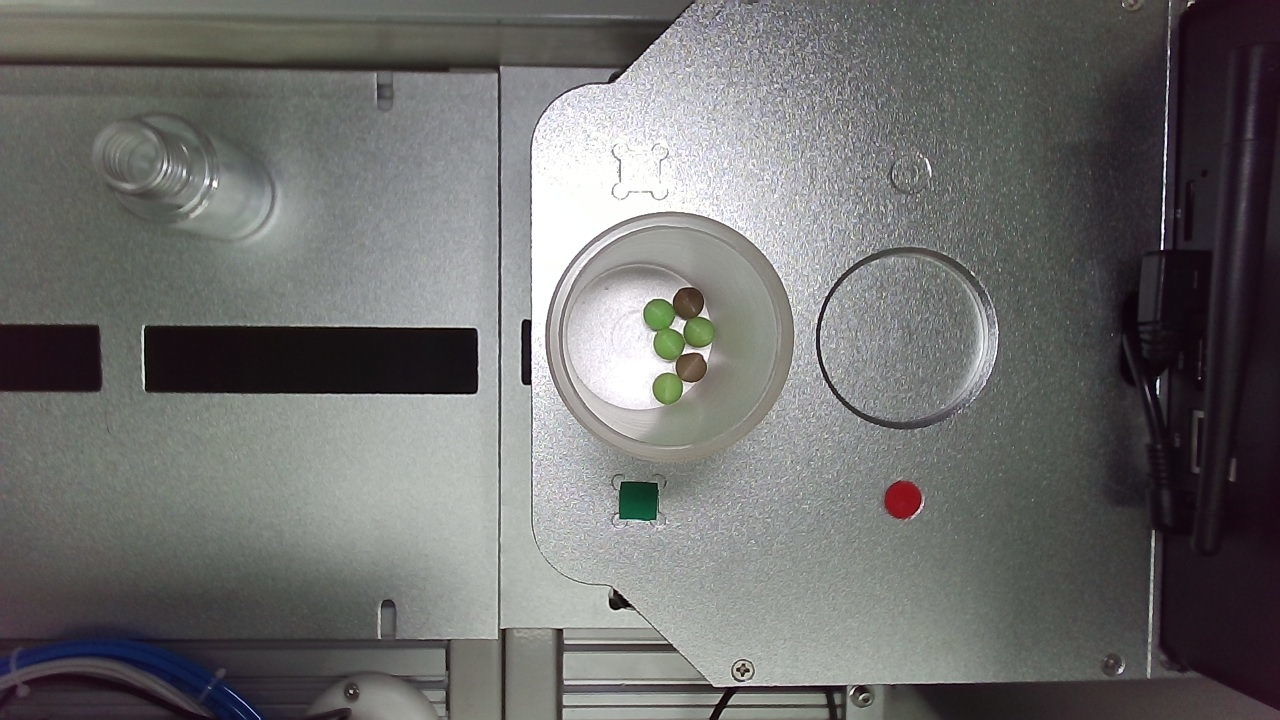XLabel: (340, 104, 408, 173)
YLabel: (770, 152, 842, 230)
none: (181, 239, 498, 569)
whiteempty: (621, 276, 1005, 659)
